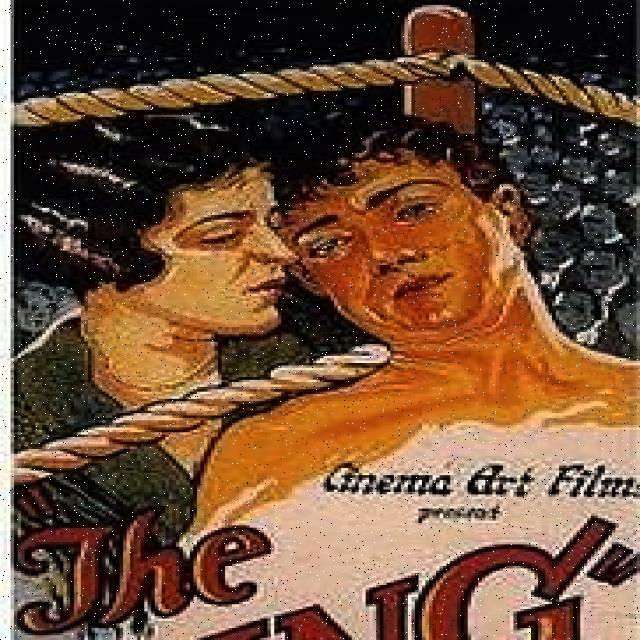movie-judul: (20, 493, 640, 640)
picture: (2, 6, 640, 471)
